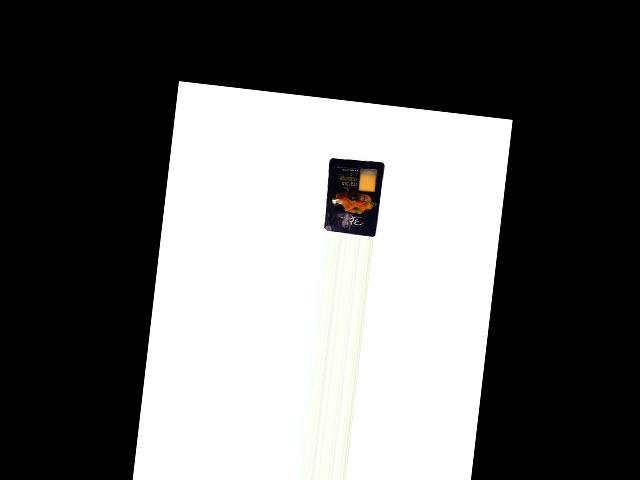cheese: (319, 156, 384, 237)
